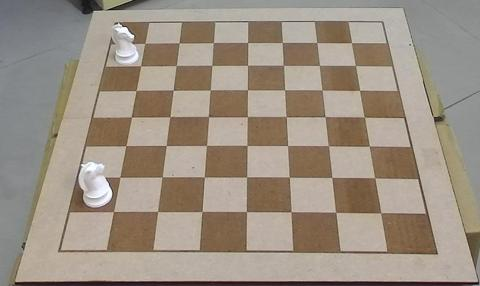xcorner: (347, 38, 357, 48), (312, 38, 322, 48), (174, 37, 184, 47), (140, 37, 150, 47), (351, 61, 361, 71), (315, 61, 325, 71), (243, 60, 253, 70), (207, 60, 217, 70), (171, 60, 181, 70), (355, 86, 365, 96), (280, 85, 290, 95), (243, 85, 253, 95), (206, 85, 216, 95), (131, 84, 141, 94), (360, 113, 370, 123), (282, 112, 292, 122), (243, 112, 253, 122), (204, 112, 214, 122), (126, 111, 136, 121), (365, 142, 375, 152), (324, 142, 334, 152), (243, 141, 253, 151), (202, 141, 212, 151), (162, 141, 172, 151), (121, 140, 131, 150), (371, 174, 381, 184), (328, 174, 338, 184), (243, 173, 253, 183), (200, 173, 210, 183), (332, 209, 342, 219), (198, 208, 208, 218), (154, 208, 164, 218), (109, 207, 119, 217), (278, 38, 287, 48), (243, 38, 253, 47), (209, 37, 218, 47), (279, 61, 289, 70), (318, 86, 328, 95), (321, 113, 331, 122), (165, 112, 175, 121), (284, 142, 294, 151), (158, 173, 168, 182), (116, 172, 125, 182), (377, 210, 387, 219), (288, 209, 297, 219), (243, 209, 253, 218), (136, 60, 145, 69), (169, 85, 178, 94), (286, 174, 295, 183)
